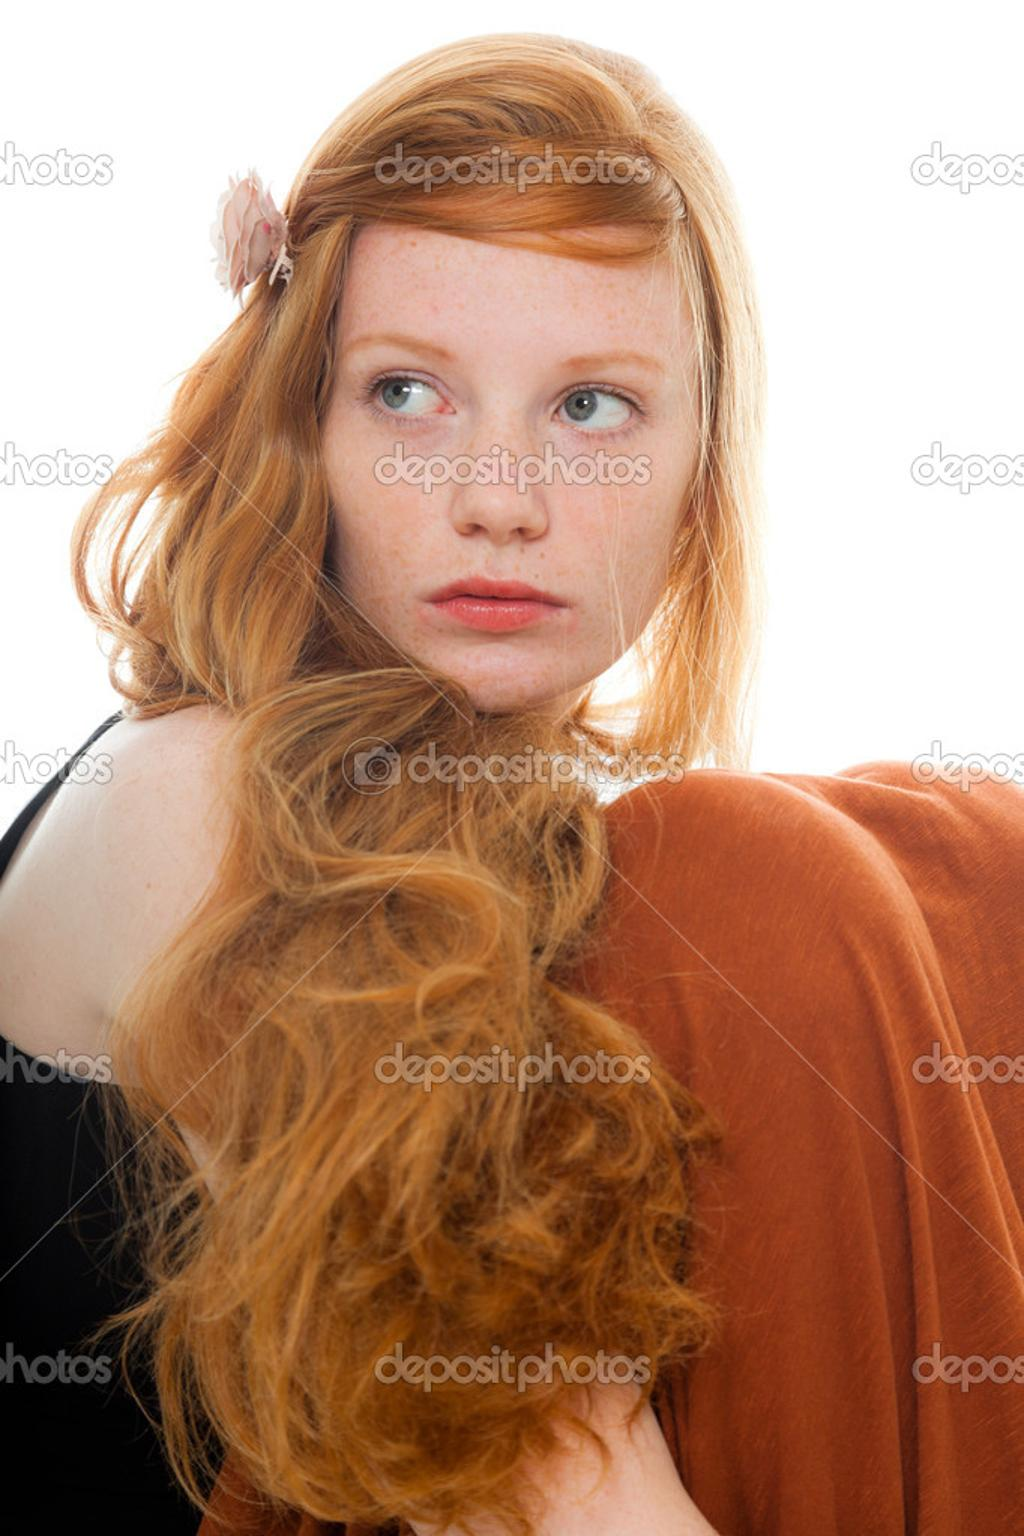face: (324, 186, 702, 709)
